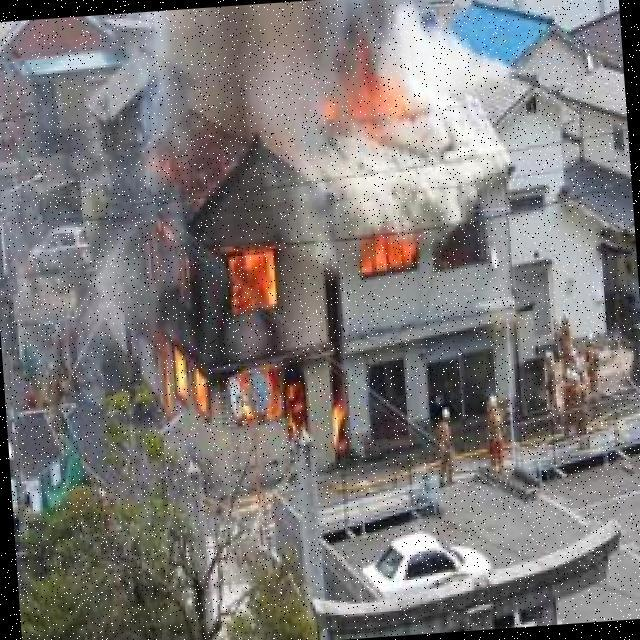Fire: (141, 193, 311, 437), (311, 48, 426, 127), (357, 231, 424, 282)
